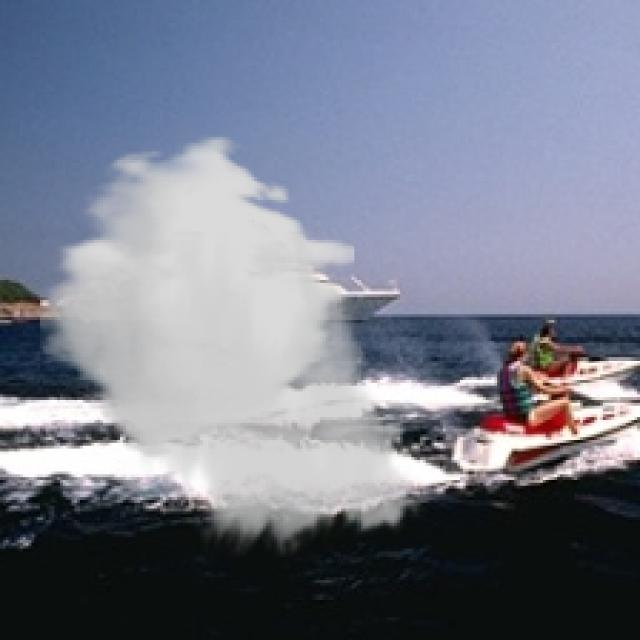smoke: (40, 134, 429, 557)
